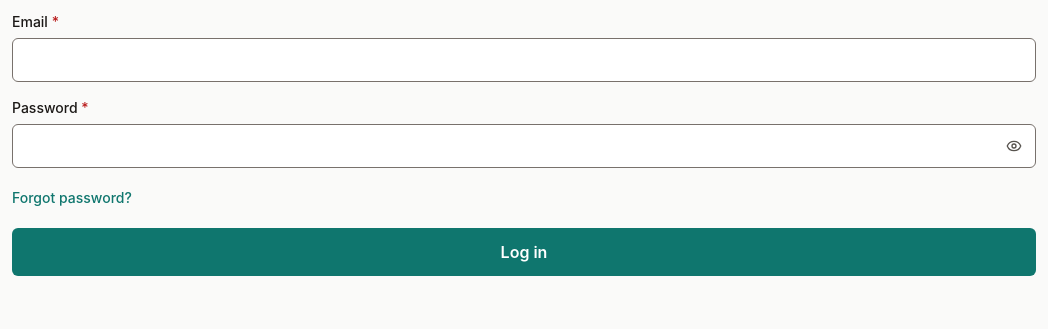
Test: LoginForm › shows one generic error for wrong credentials
Type "a@example.com" into the field labelled "Email *". click: (524, 60)
box: x1=12 y1=38 x2=1036 y2=82
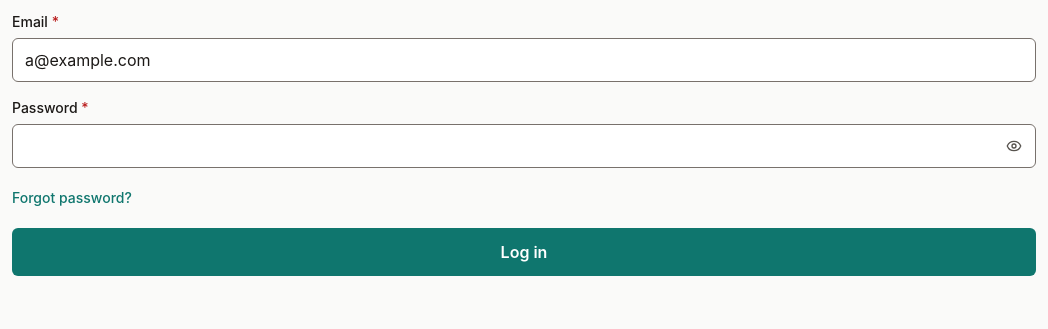
Type "wrong-password" into the password field labelled "Password *". click: (524, 146)
box: x1=12 y1=124 x2=1036 y2=168
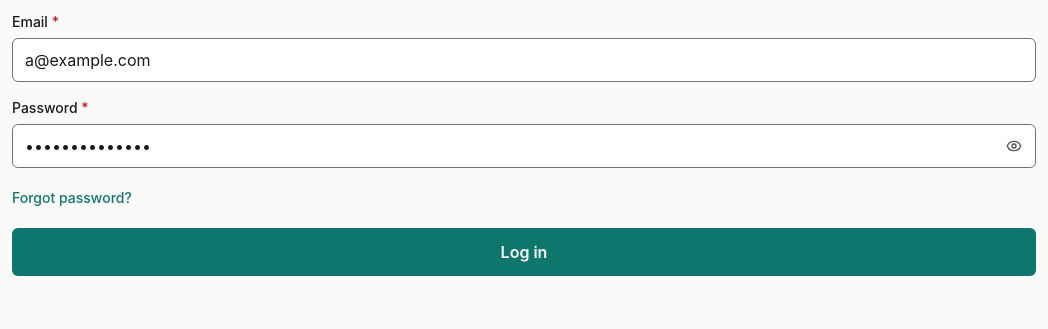
Click the button "Log in". click: (524, 252)
box: x1=12 y1=228 x2=1036 y2=276
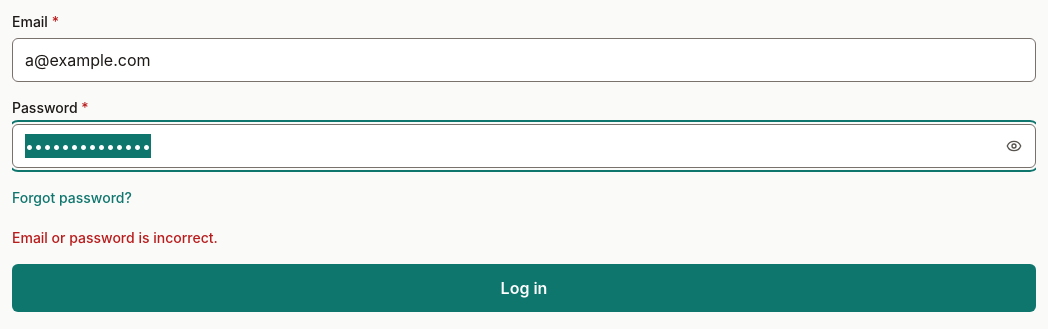
Check: the message reads "Email or password is incorrect.", box x1=12 y1=229 x2=218 y2=246
